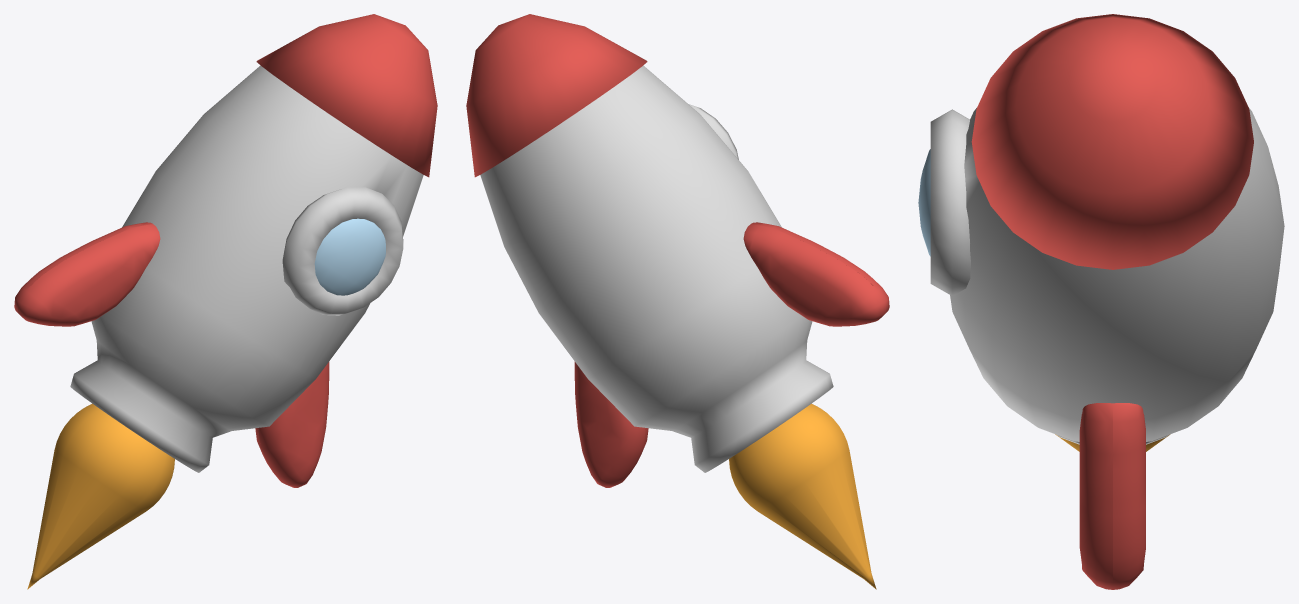
The model's file is rocket.glb.
3 views of the same model, side by side, from view 1: azimuth 30°, elevation 25°; view 2: azimuth 150°, elevation 25°; view 3: azimuth 270°, elevation 25° (orthographic). The views are drawn at different scales.
Visible parts, largest first — view 1: rocket; view 2: rocket; view 3: rocket.
Boxes of the visible parts, x1=… form: rocket: x1=14, y1=14, x2=437, y2=589; rocket: x1=466, y1=14, x2=889, y2=589; rocket: x1=918, y1=14, x2=1284, y2=589.
Size of the model in its own units: 0.8799 by 1 by 0.5071.
